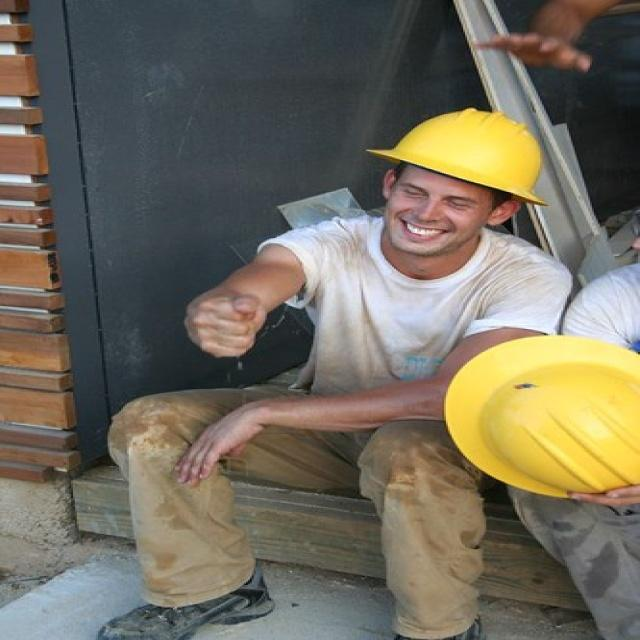helmet: (444, 431, 638, 640), (363, 133, 548, 250)
